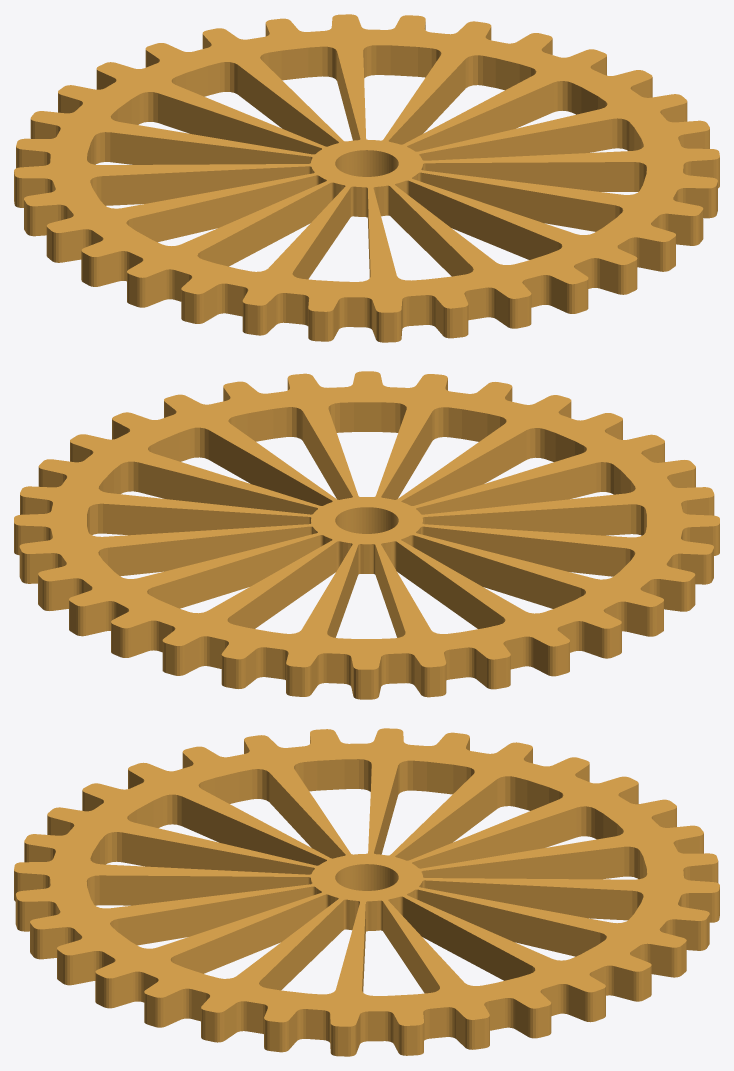
Rendered from gear2.fbx.
3 renders of one model, top to bottom at view 1: azimuth 30°, elevation 25°; view 2: azimuth 150°, elevation 25°; view 3: azimuth 270°, elevation 25°, orthographic.
Visible parts, largest first — view 1: Cylinder.001; view 2: Cylinder.001; view 3: Cylinder.001.
Part boxes in pixels (left/top/right/bottom): Cylinder.001: left=14, top=14, right=719, bottom=342; Cylinder.001: left=14, top=371, right=719, bottom=699; Cylinder.001: left=14, top=728, right=719, bottom=1056.
Bounding box in the file's own units: 1020 × 47.63 × 1020.
